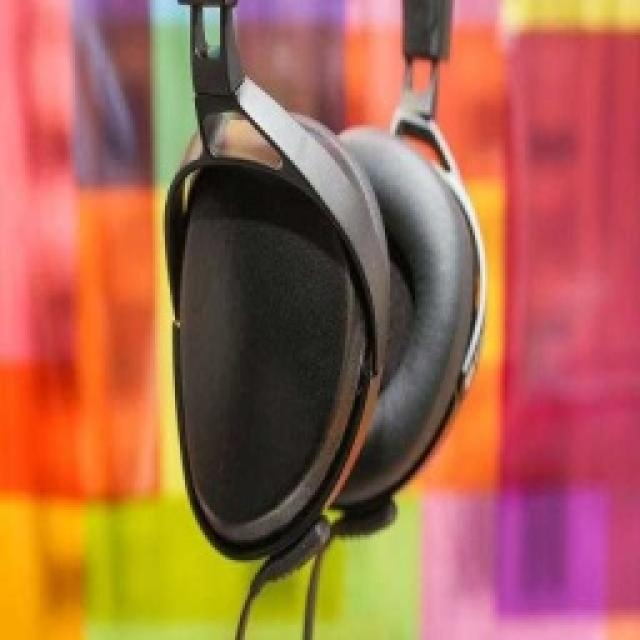headphones: (160, 0, 488, 565)
